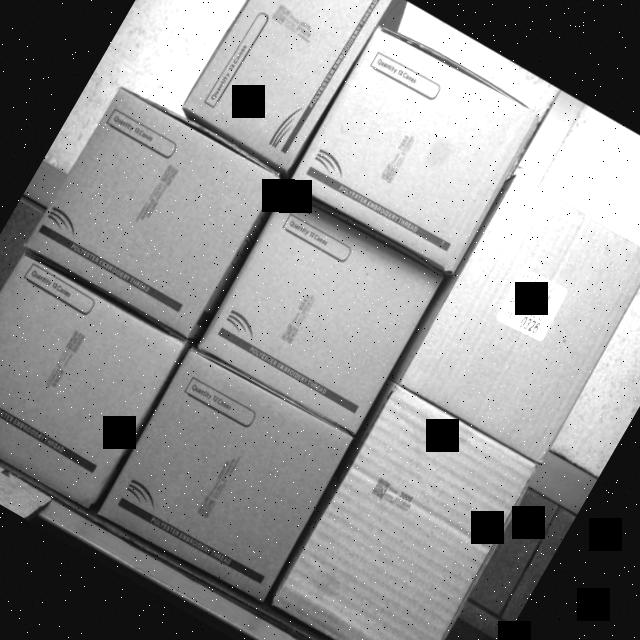box: (397, 172, 640, 463), (95, 348, 358, 612), (271, 387, 541, 640), (286, 19, 546, 276), (27, 87, 280, 340), (195, 188, 442, 434), (0, 245, 192, 513), (176, 0, 393, 174)
